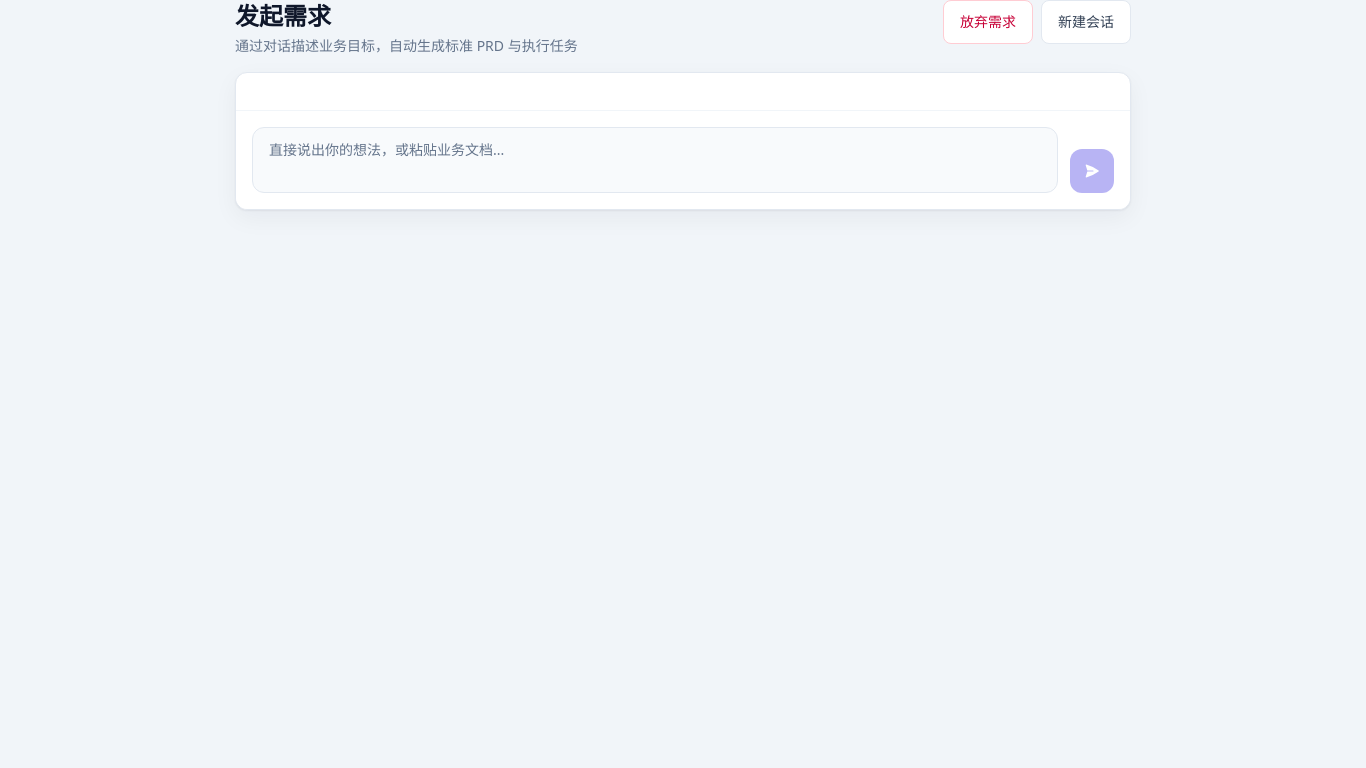
Test: RequirementChatView - abandon flow (Story 2.3) › shows abandon button only while collecting and opens the confirm modal
Click the button with test id "abandon-button" at [988, 22], box [943,0,1033,44]
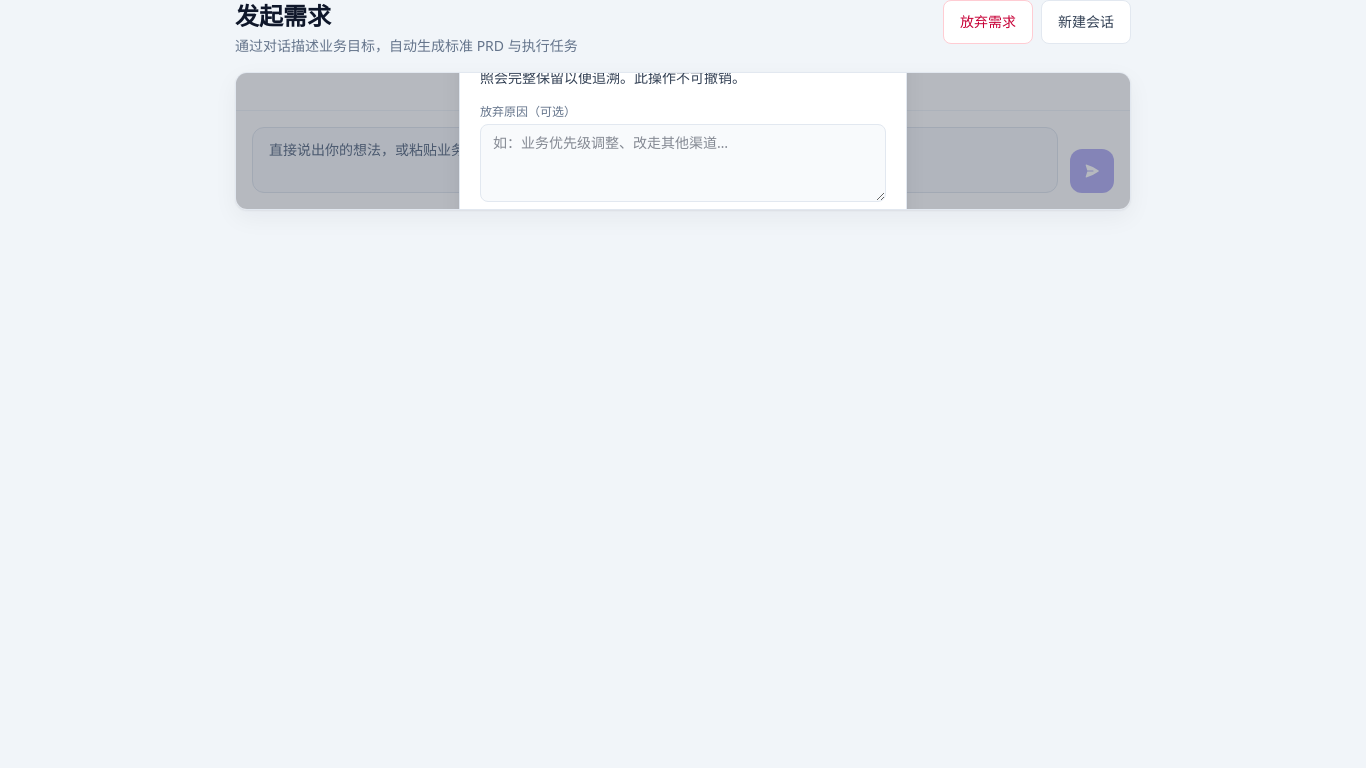
Expected: the dialog with test id "abandon-modal" is shown, [236,73,1130,209]
